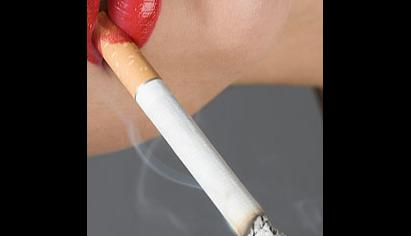Cigarette: (94, 17, 299, 236)
